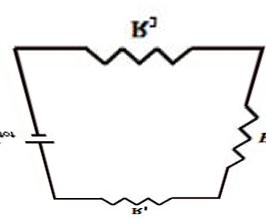resistor: (69, 35, 195, 77), (228, 89, 256, 176), (95, 184, 179, 204)
